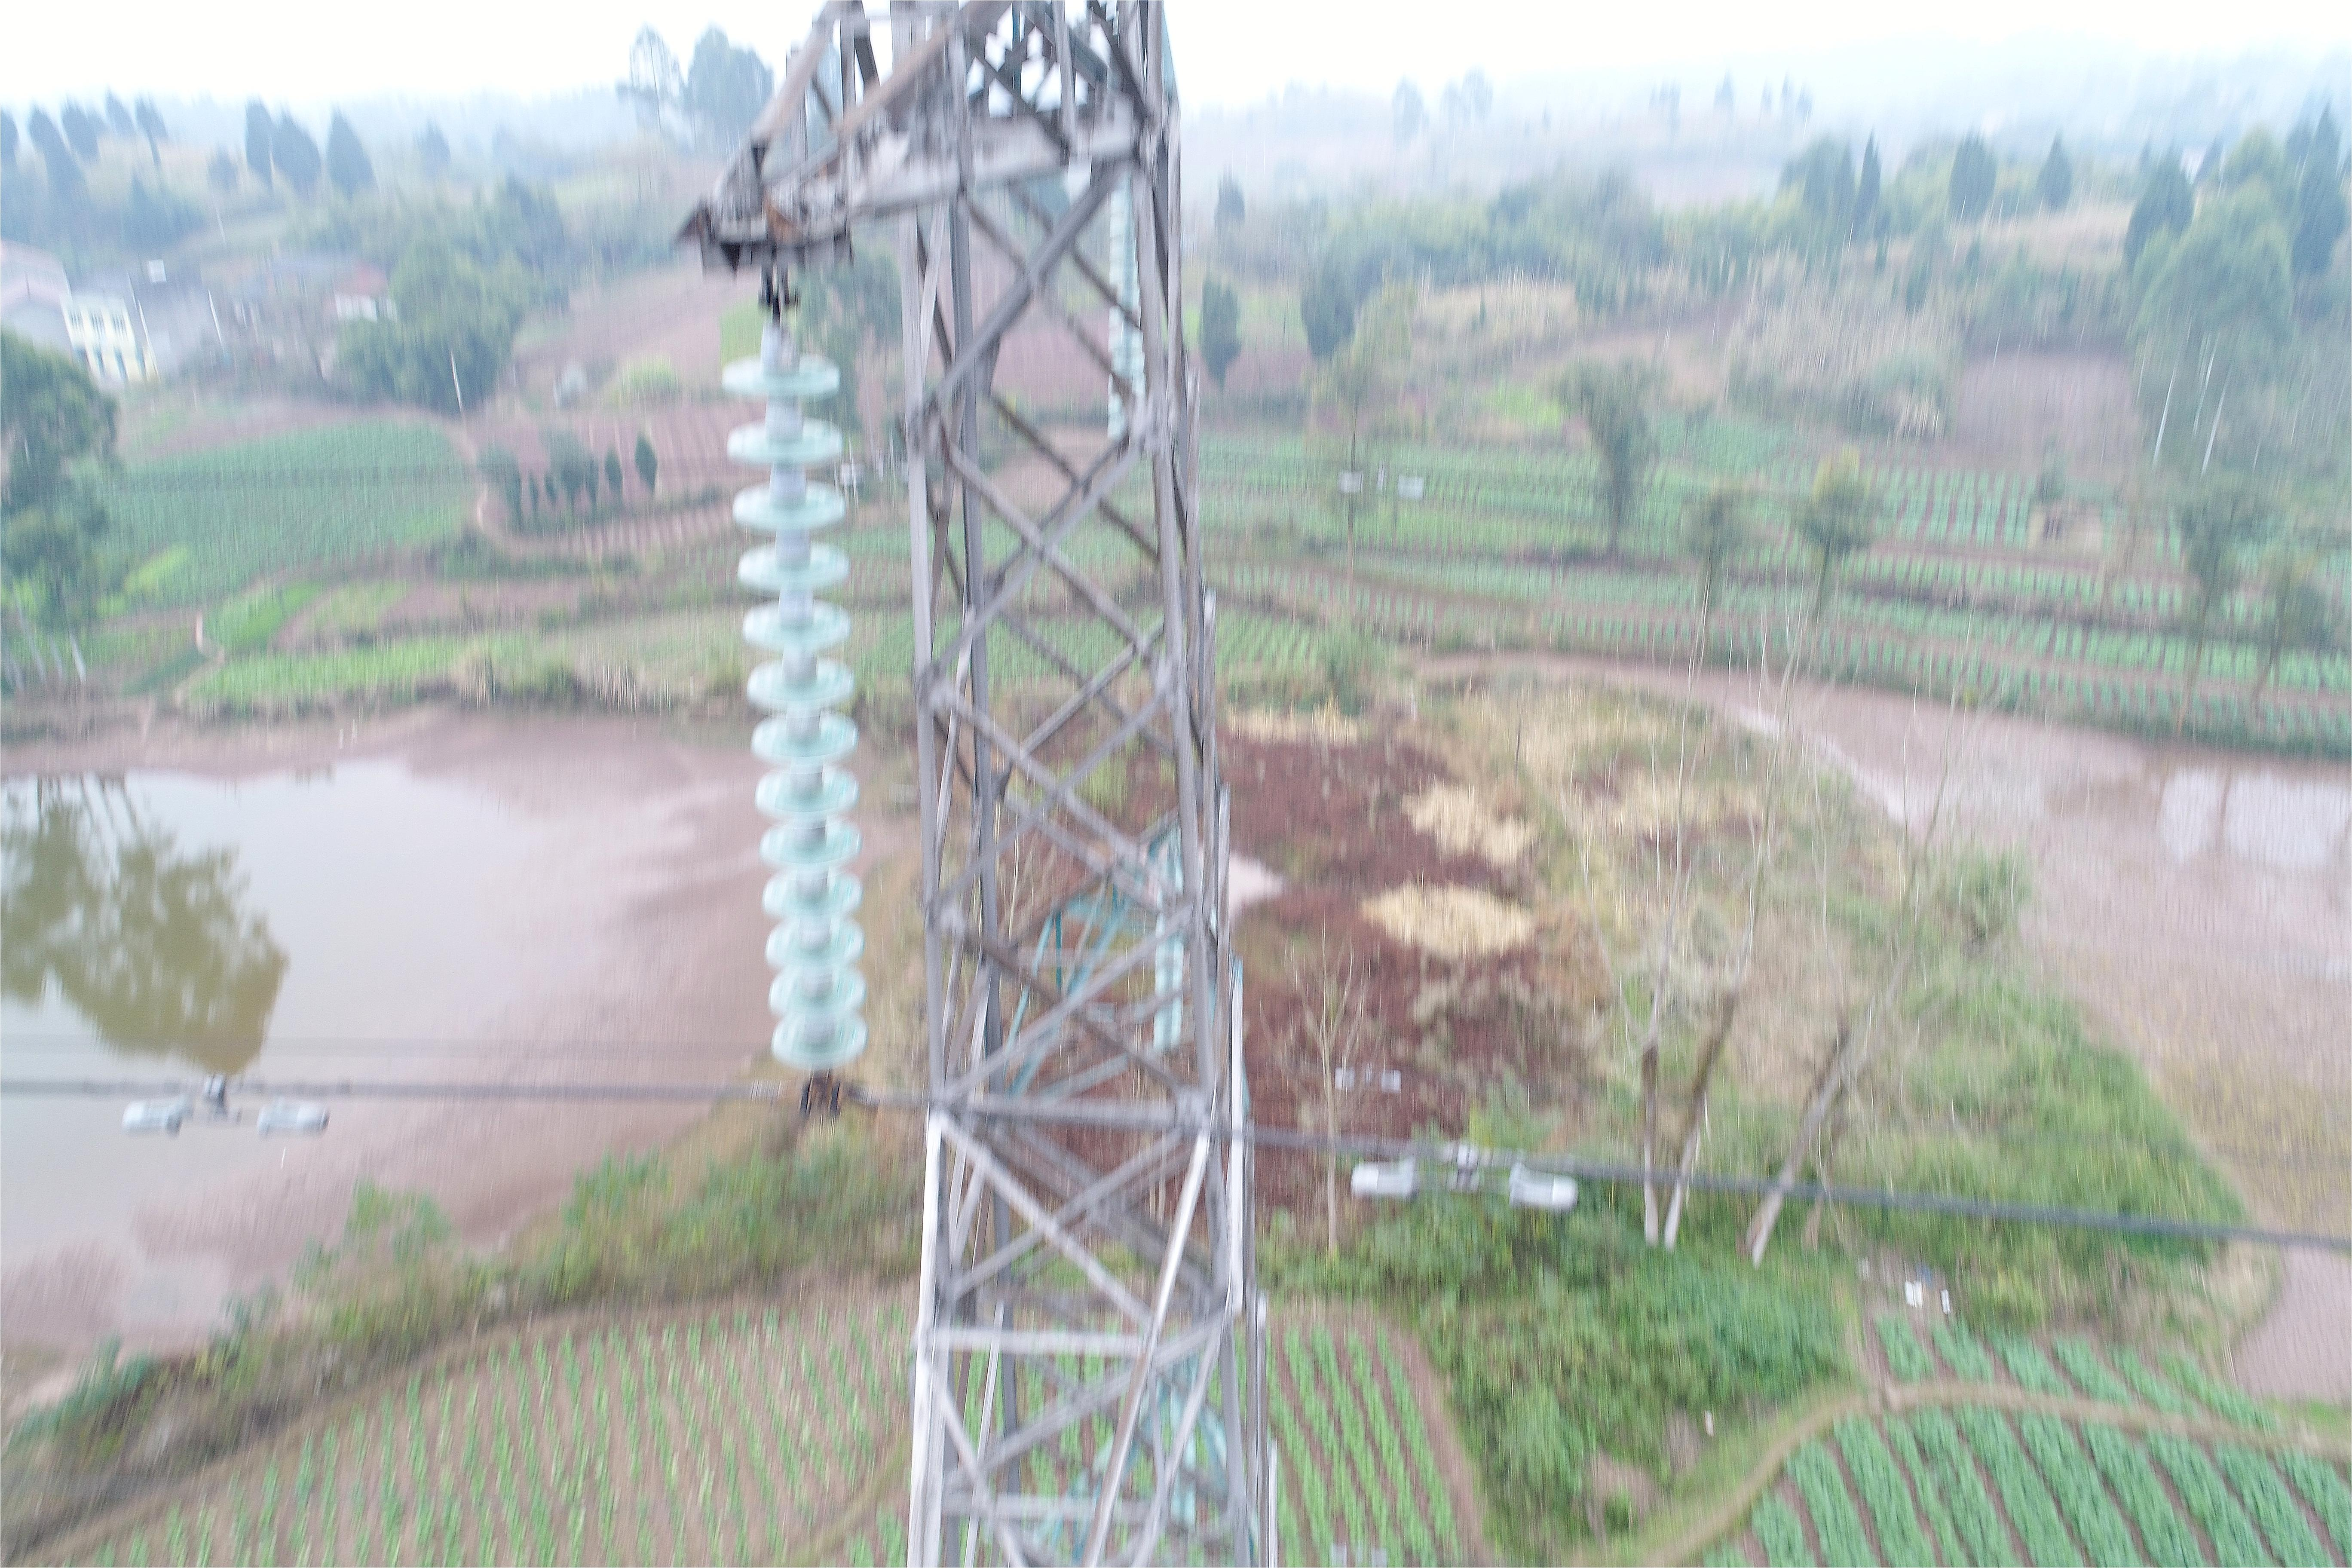insultor3: (675, 296, 903, 1102)
